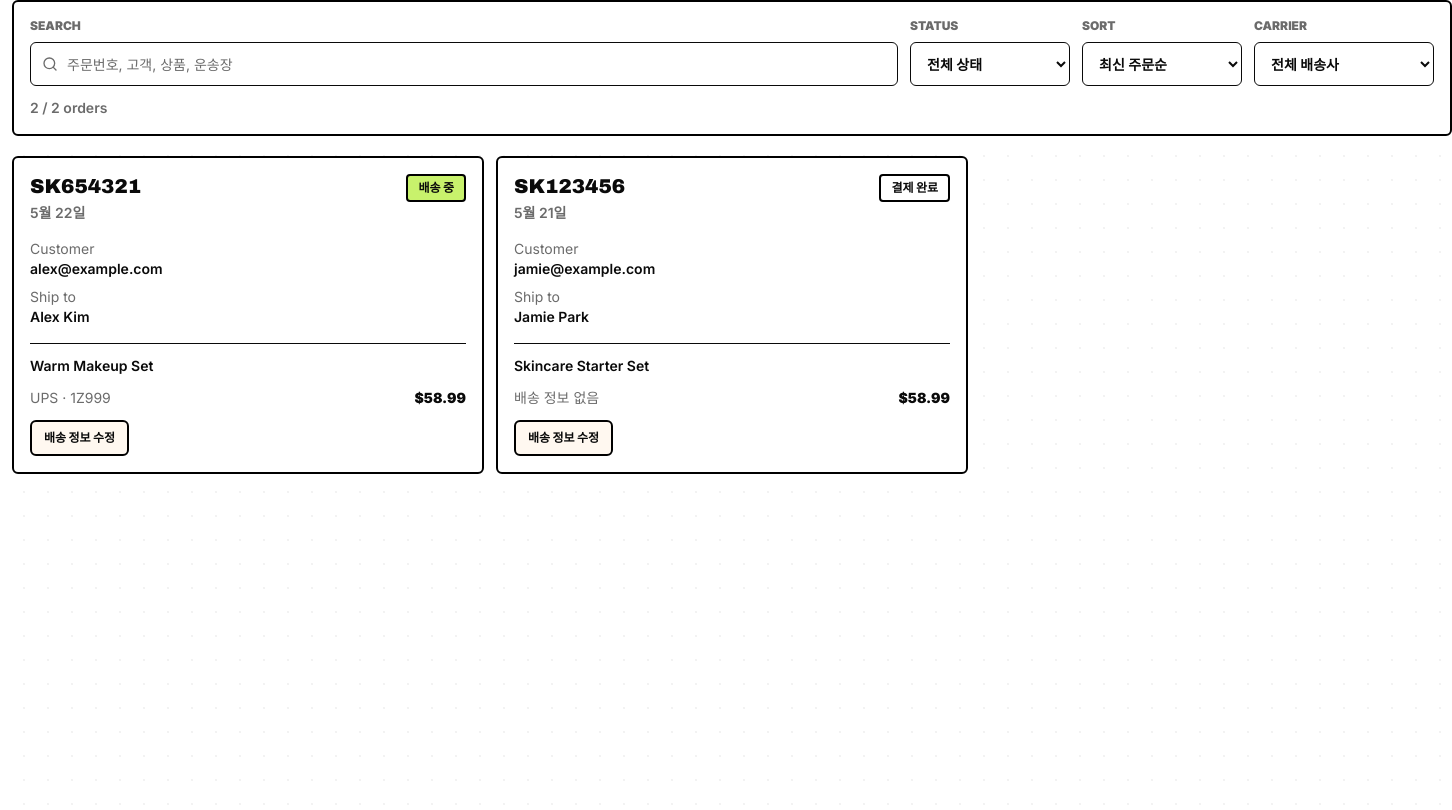
Test: AdminOrdersClient › filters the order grid by customer search
The image size is (1452, 810).
Expected: the button with test id "admin-order-order_1" is shown, [496,156,968,474]
Expected: the button with test id "admin-order-order_2" is shown, [12,156,484,474]
In the field named "Search orders": [464, 64] box [30,42,898,86], type "alex@example.com"
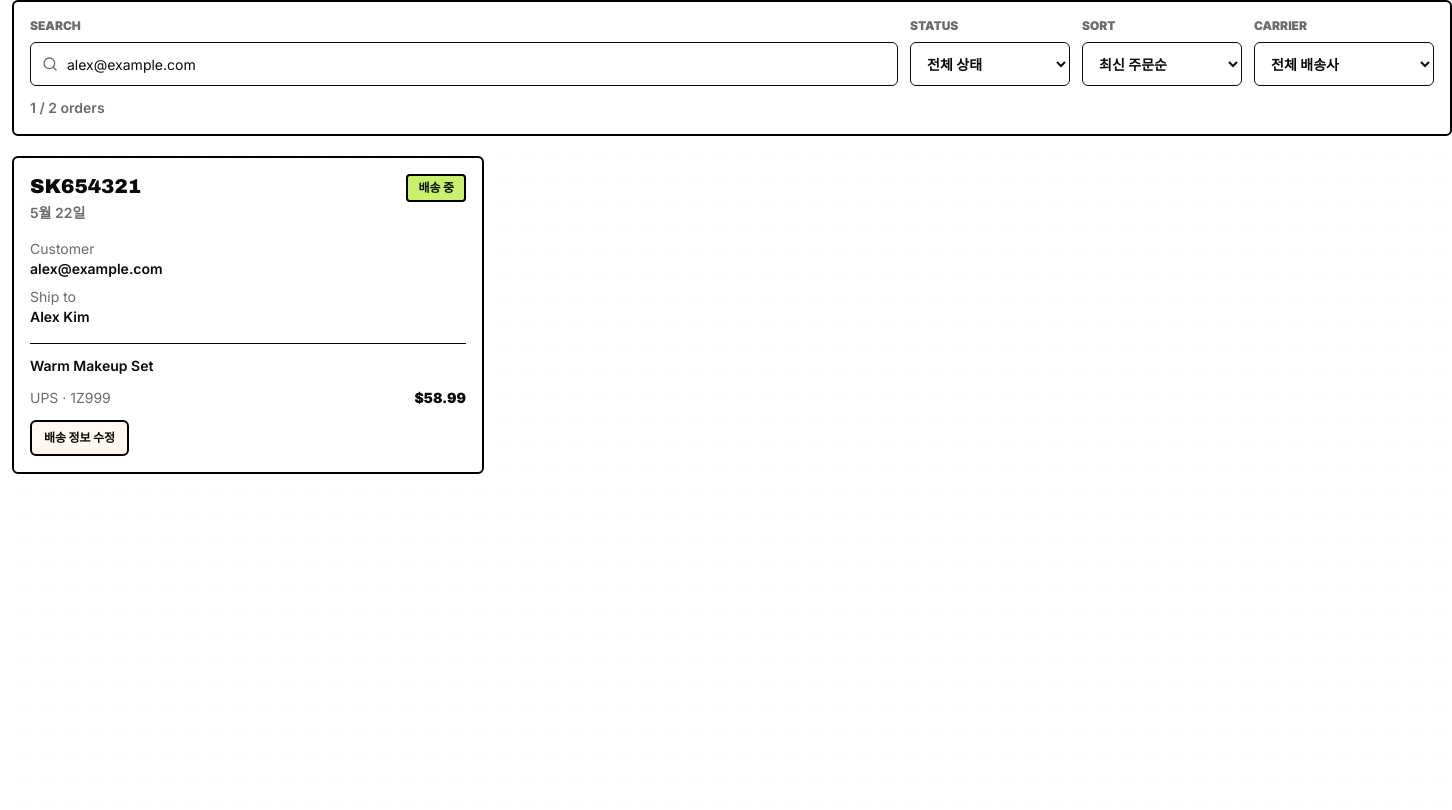
Expected: the button with test id "admin-order-order_2" is shown, [12,156,484,474]
Expected: the button with test id "admin-order-order_1" is gone
